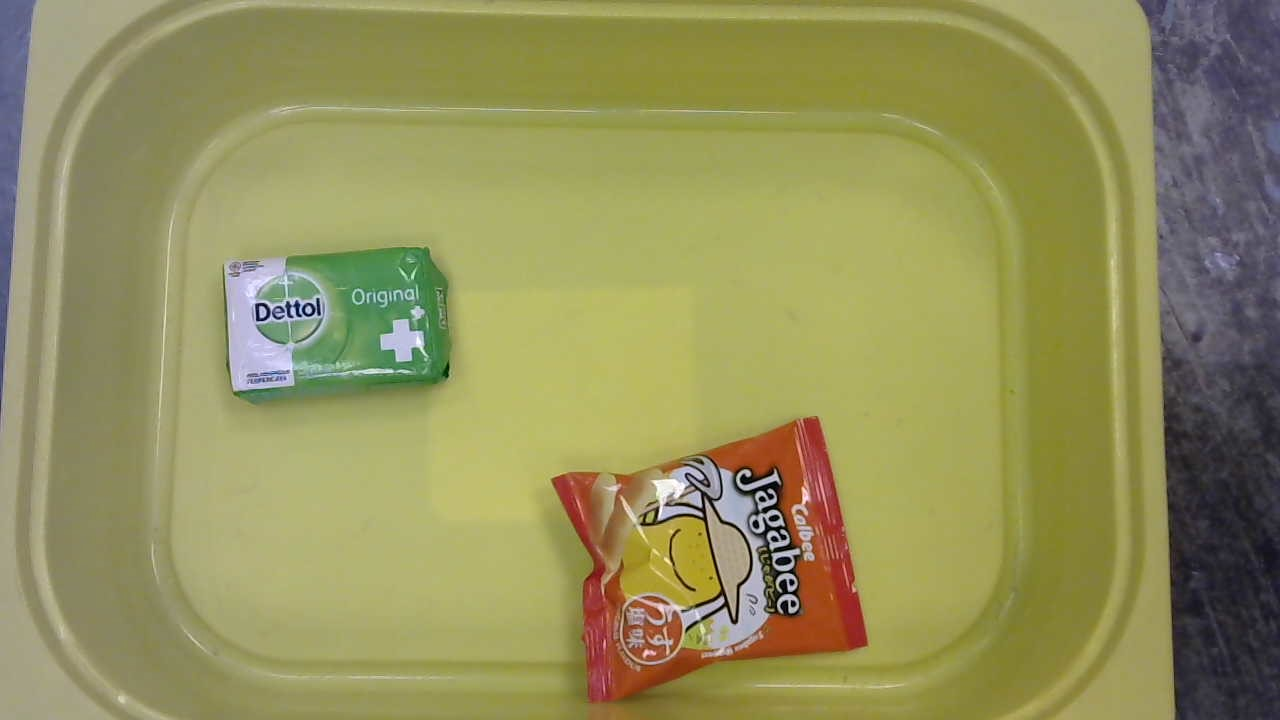Dettol: (222, 244, 452, 406)
JagabeeFarmer: (545, 415, 875, 710)
